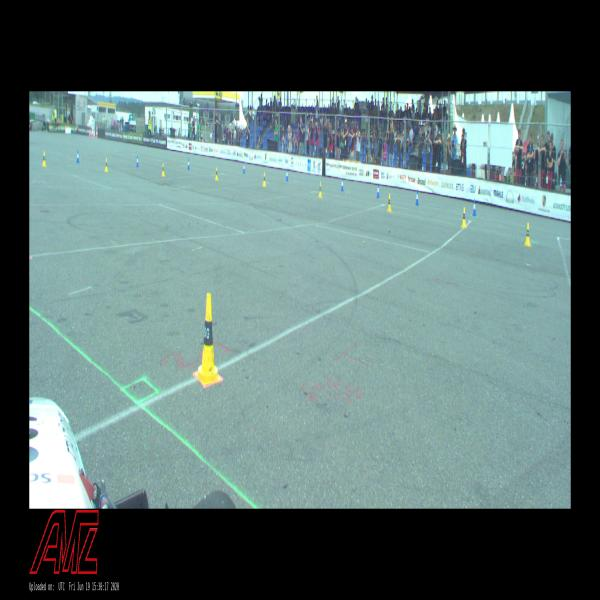blue_cone: (415, 190, 419, 206), (473, 200, 476, 216), (136, 155, 139, 167), (377, 184, 379, 198), (341, 178, 343, 191), (77, 151, 79, 162), (243, 162, 245, 173), (286, 170, 288, 180), (188, 158, 189, 169)
large_orange_cone: (96, 125, 98, 138), (92, 126, 93, 136)
orange_cone: (76, 124, 78, 130)
yellow_cone: (196, 294, 220, 384), (525, 223, 531, 246), (462, 207, 466, 227), (42, 152, 46, 167), (388, 194, 391, 212), (318, 182, 321, 197), (105, 158, 108, 172), (263, 173, 266, 186), (162, 163, 165, 176), (215, 168, 218, 180)
